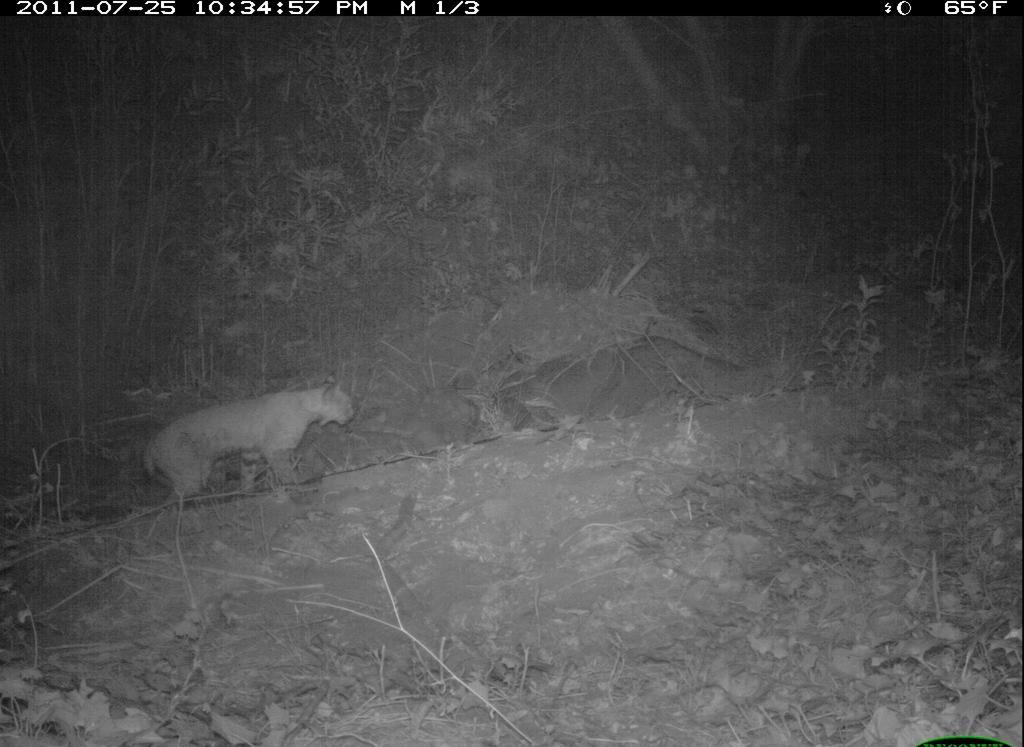bobcat: (137, 367, 379, 527)
